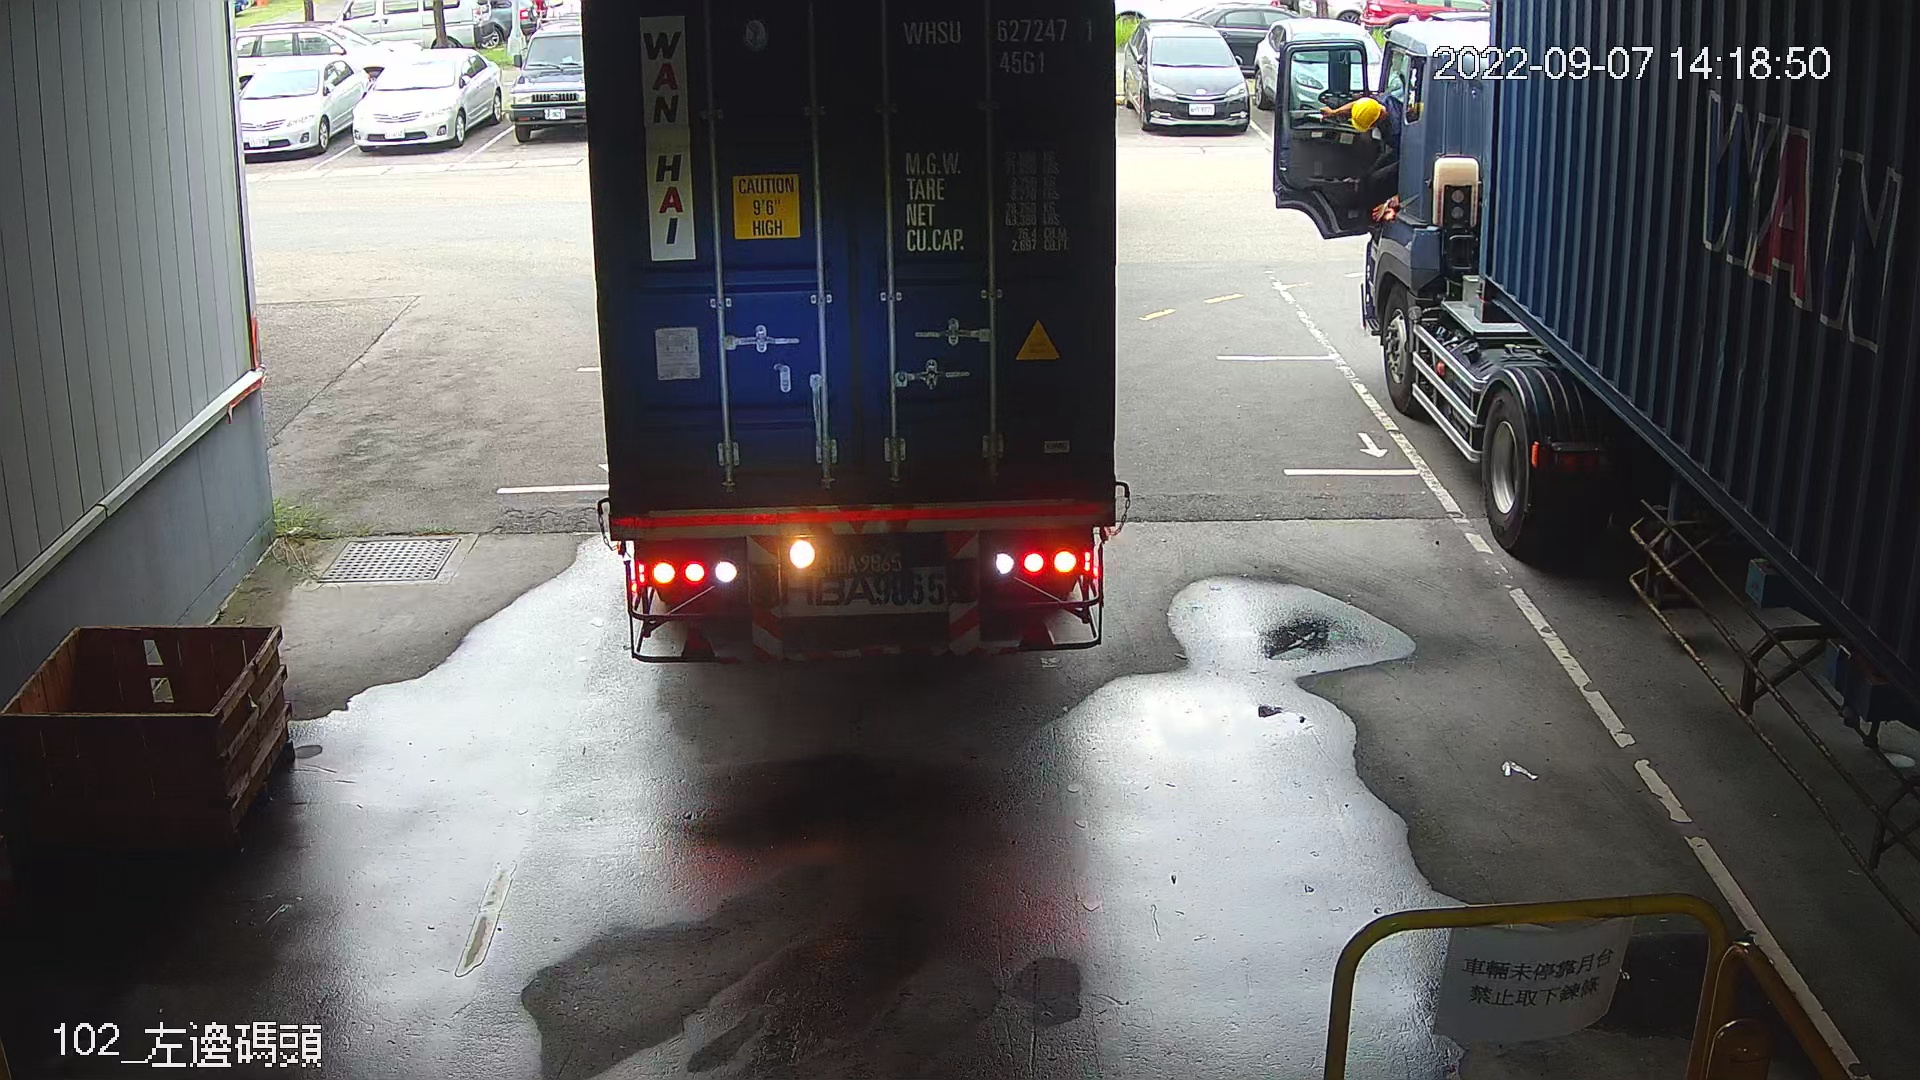container: (897, 11, 1106, 83)
